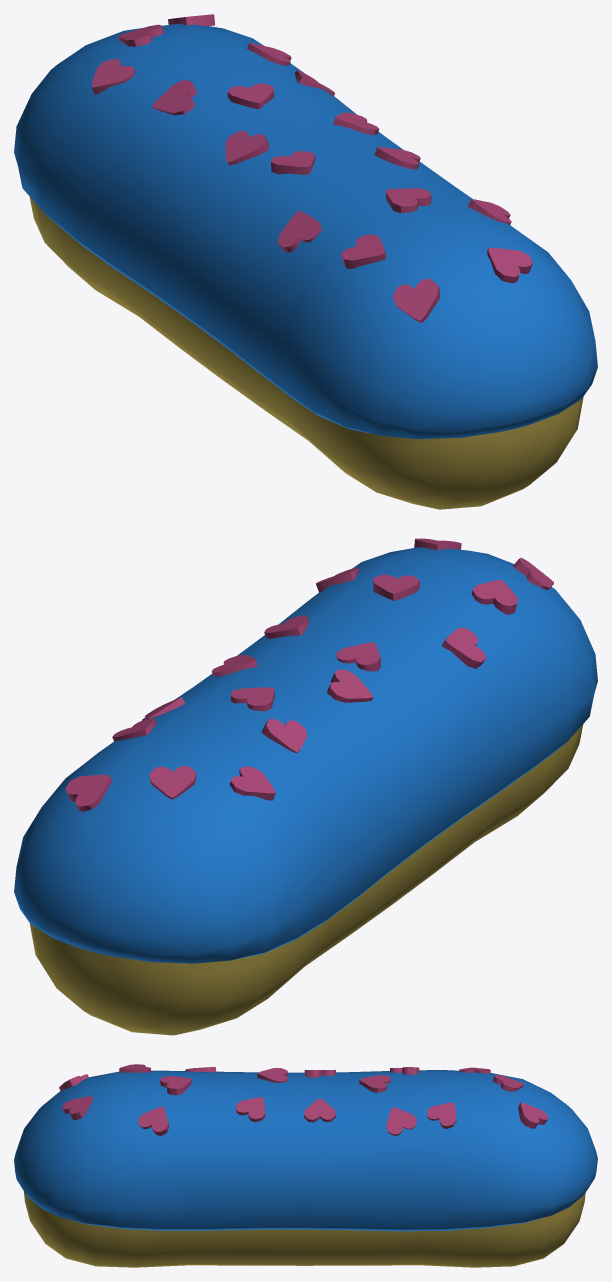
File: Eclair_2.FBX
The picture shows the model from 3 angles, top to bottom: view 1: azimuth 30°, elevation 25°; view 2: azimuth 150°, elevation 25°; view 3: azimuth 270°, elevation 25°; orthographic projection. The views are drawn at different scales.
Parts seen in each view (by area): view 1: Eclair_2; view 2: Eclair_2; view 3: Eclair_2.
Boxes of the visible parts, left/top/right/bottom form: Eclair_2: left=14, top=14, right=597, bottom=509; Eclair_2: left=14, top=538, right=597, bottom=1035; Eclair_2: left=14, top=1064, right=597, bottom=1267.
Bounding box in the file's own units: 358 × 1012 × 339.
